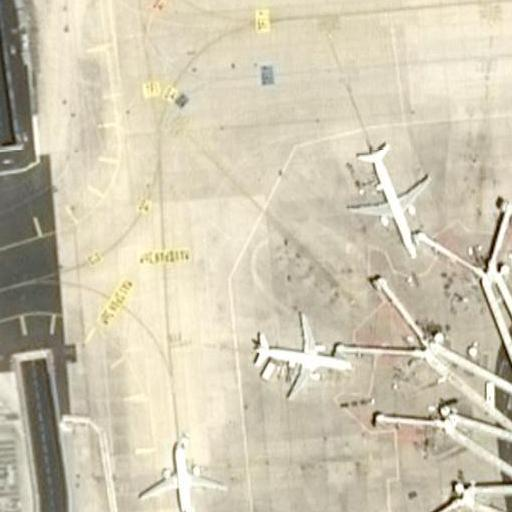Aircraft: (339, 135, 432, 257), (245, 304, 351, 401), (138, 435, 234, 512)
